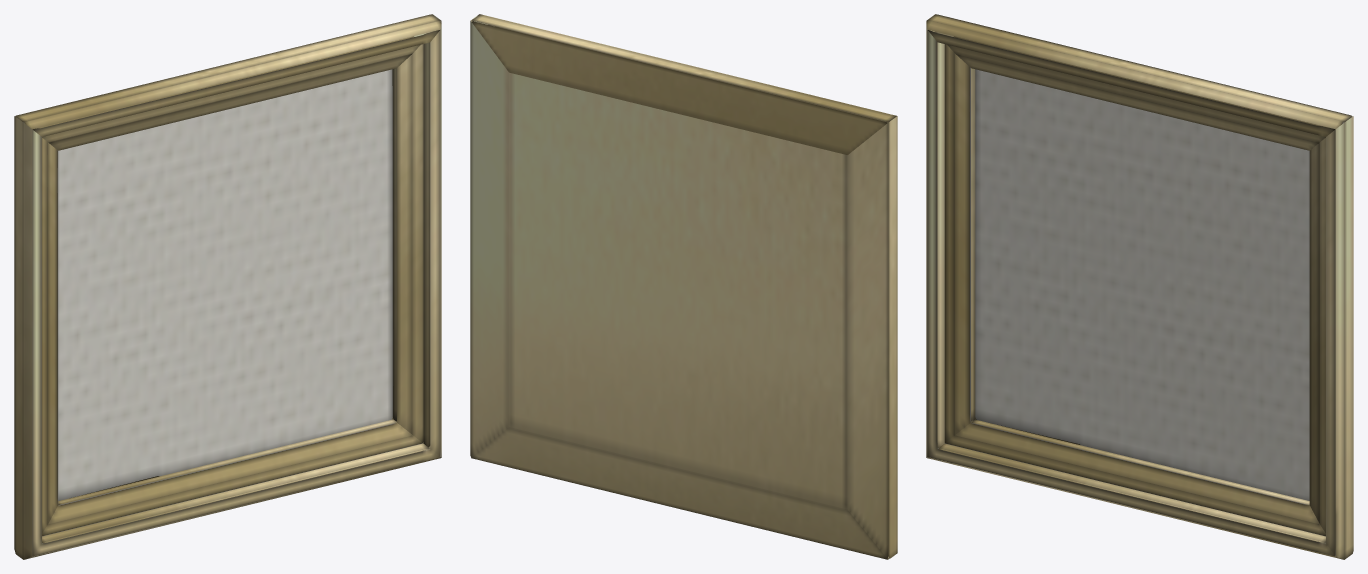
Rendered from PictureFrameSquare.fbx.
The picture shows the model from 3 angles, left to right: view 1: azimuth 30°, elevation 25°; view 2: azimuth 150°, elevation 25°; view 3: azimuth 330°, elevation 25°; orthographic projection.
Visible parts, largest first — view 1: PictureFrame; view 2: PictureFrame; view 3: PictureFrame.
Part boxes in pixels (x1=…): PictureFrame: x1=14, y1=14, x2=441, y2=559; PictureFrame: x1=470, y1=14, x2=897, y2=559; PictureFrame: x1=926, y1=14, x2=1353, y2=559.
Size of the model in its own units: 447 by 447 by 26.07.
Materials: 1 (1 with a texture image).
